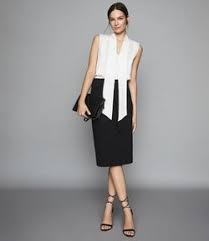F_tailored skirt: (87, 74, 139, 173)
